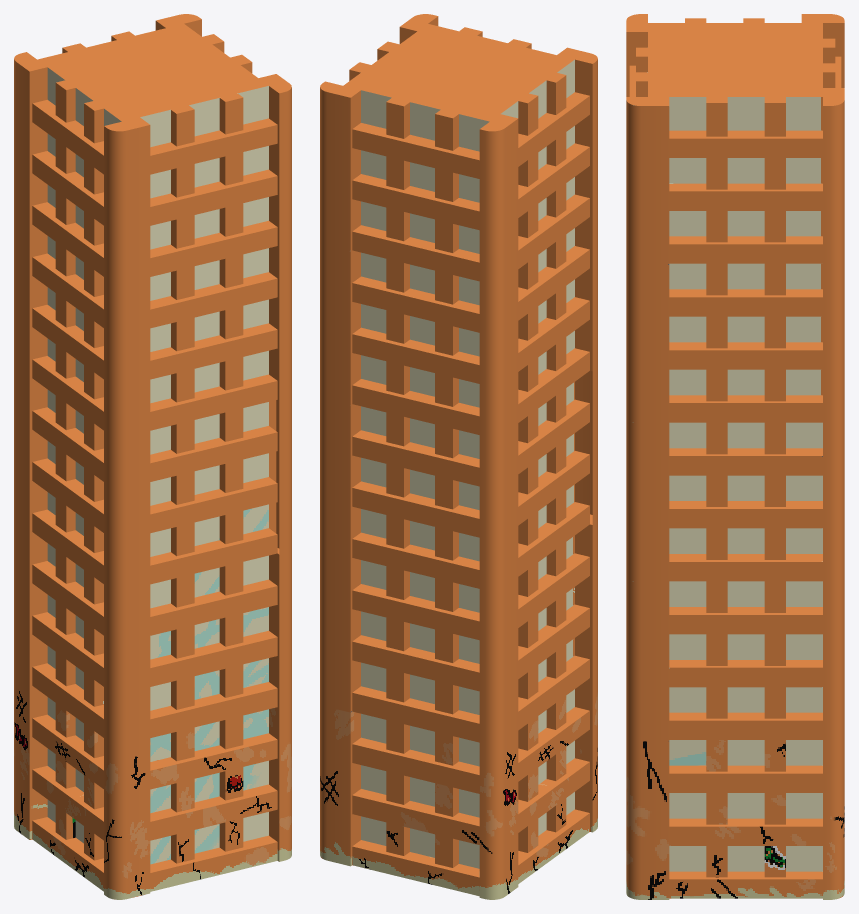
Rendered from Building_speed.glb.
The picture shows the model from 3 angles, left to right: view 1: azimuth 30°, elevation 25°; view 2: azimuth 150°, elevation 25°; view 3: azimuth 270°, elevation 25°; orthographic projection. The views are drawn at different scales.
Parts seen in each view (by area): view 1: Cube.002; view 2: Cube.002; view 3: Cube.002.
Boxes of the visible parts, bbox=[...] form: Cube.002: bbox=[14, 14, 291, 899]; Cube.002: bbox=[320, 14, 597, 899]; Cube.002: bbox=[626, 14, 844, 899].
Bounding box in the file's own units: 20.34 × 81.7 × 20.34.
1 material, 1 textured.
